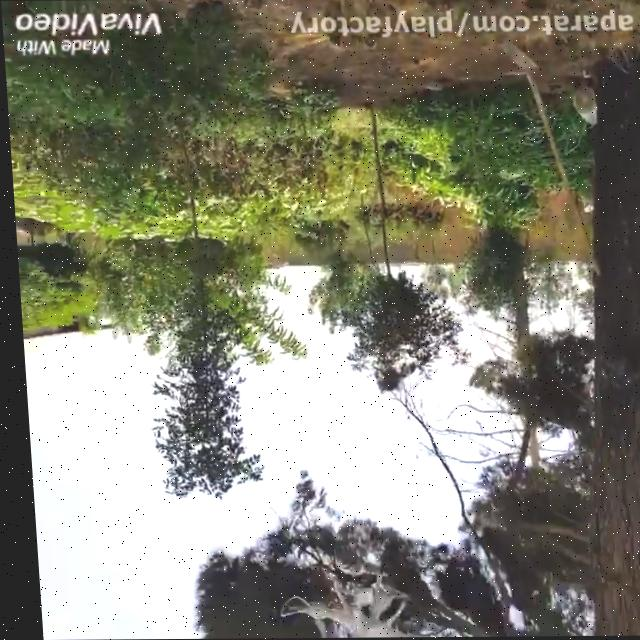drone: (265, 574, 413, 638)
